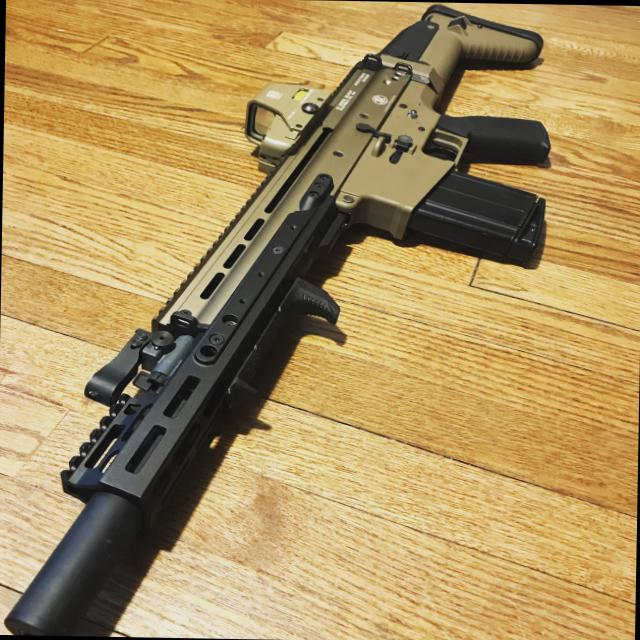Gun: (4, 7, 640, 640)
